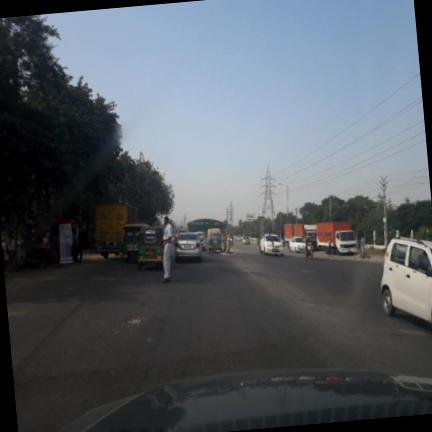Road: (4, 244, 431, 431)
